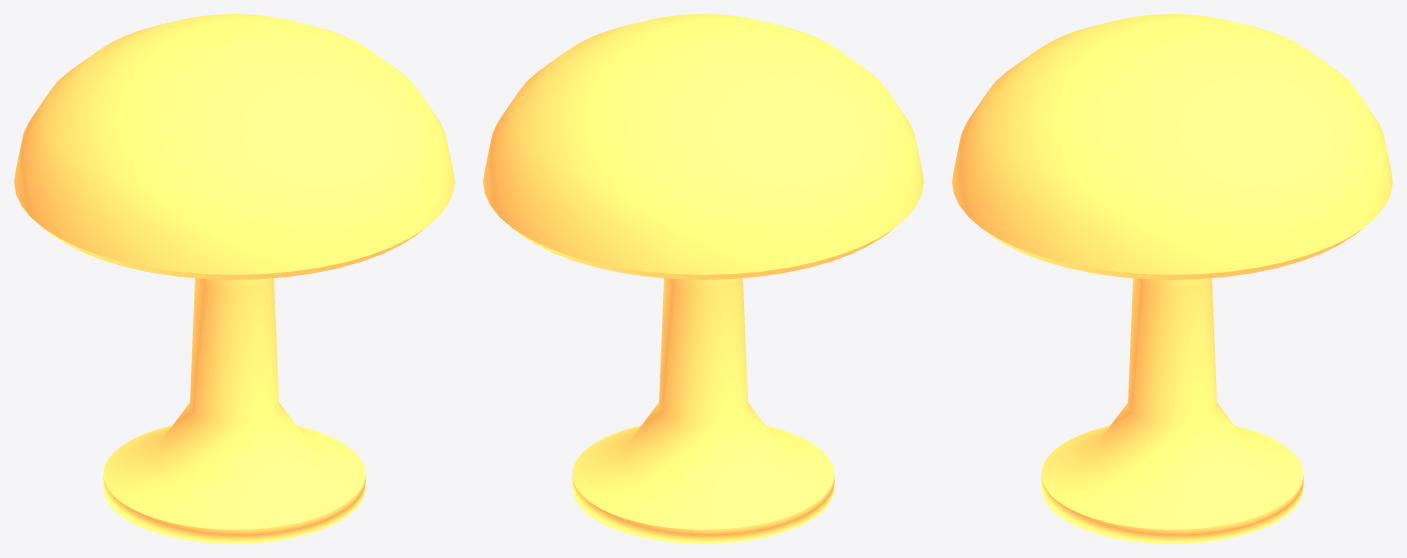
File: obj-lamp-mushroom-amber.glb
3 renders of one model, left to right at view 1: azimuth 30°, elevation 25°; view 2: azimuth 150°, elevation 25°; view 3: azimuth 270°, elevation 25°, orthographic.
Parts seen in each view (by area): view 1: obj-lamp-mushroom-amber; view 2: obj-lamp-mushroom-amber; view 3: obj-lamp-mushroom-amber.
Boxes of the visible parts, x1,y1,x2,y2 form: obj-lamp-mushroom-amber: (14,14,454,543); obj-lamp-mushroom-amber: (483,14,923,543); obj-lamp-mushroom-amber: (952,14,1392,543).
Bounding box in the file's own units: 0.336 × 0.3756 × 0.336.
